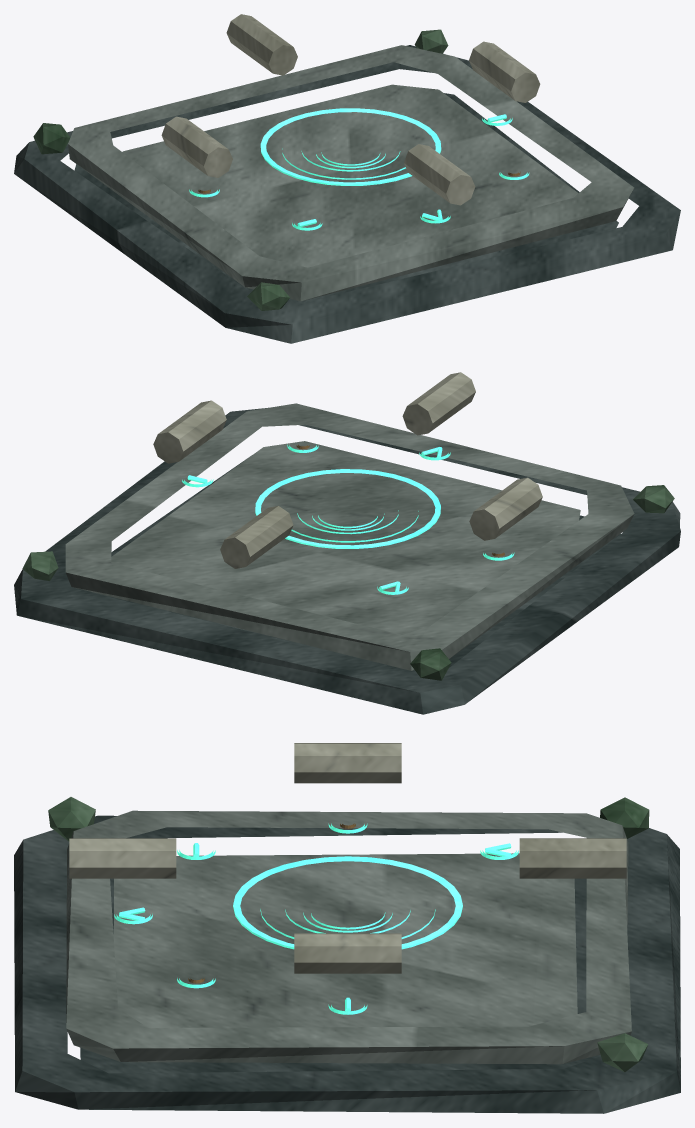
The model's file is 0558_rune_dais_08.glb.
3 views of the same model, one above another, from view 1: azimuth 30°, elevation 25°; view 2: azimuth 150°, elevation 25°; view 3: azimuth 270°, elevation 25° (orthographic). The views are drawn at different scales.
Visible parts, largest first — view 1: stone, stone_dark, stone_light, glow, moss; view 2: stone, stone_dark, stone_light, glow, moss; view 3: stone, stone_dark, stone_light, glow, moss.
Part boxes in pixels (left/top/right/bottom): stone: left=68, top=45, right=634, bottom=301; stone_dark: left=14, top=45, right=680, bottom=343; stone_light: left=161, top=14, right=540, bottom=205; glow: left=189, top=108, right=529, bottom=230; moss: left=33, top=29, right=448, bottom=310; stone: left=65, top=403, right=634, bottom=670; stone_dark: left=14, top=407, right=680, bottom=714; stone_light: left=153, top=372, right=542, bottom=568; glow: left=182, top=444, right=514, bottom=594; moss: left=22, top=485, right=674, bottom=680; stone: left=66, top=810, right=631, bottom=1064; stone_dark: left=14, top=815, right=680, bottom=1113; stone_light: left=69, top=743, right=626, bottom=973; glow: left=114, top=823, right=518, bottom=1014; moss: left=48, top=797, right=649, bottom=1071.
Size of the model in its own units: 3.07 by 0.7063 by 3.11.
6 materials, 6 textured.
